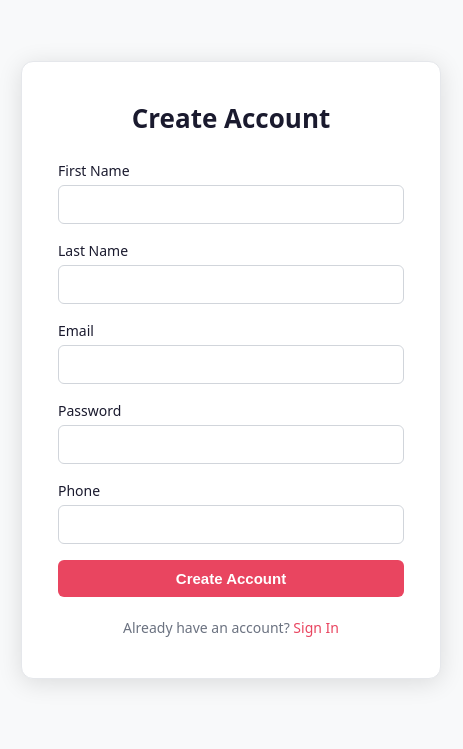
Test: RegisterPage › shows an error when first name is too short
Type "A" into the field labelled "First Name" at (231, 204), box [58,185,404,224]
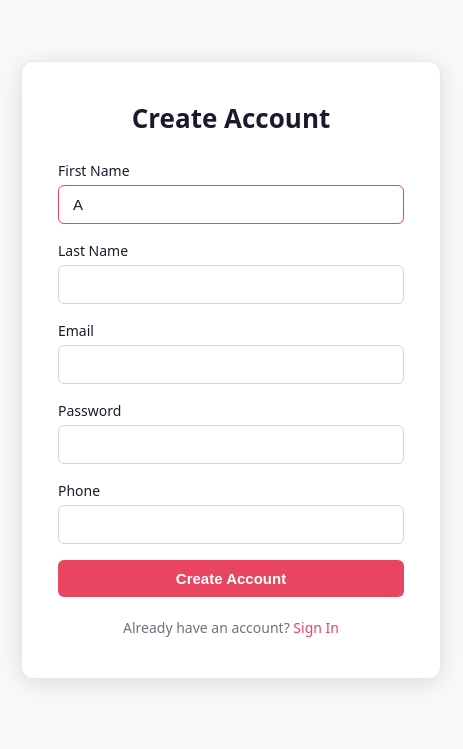
Submit the form "First Name Last Name Email Password Phone Create Account", box [58,160,404,597]
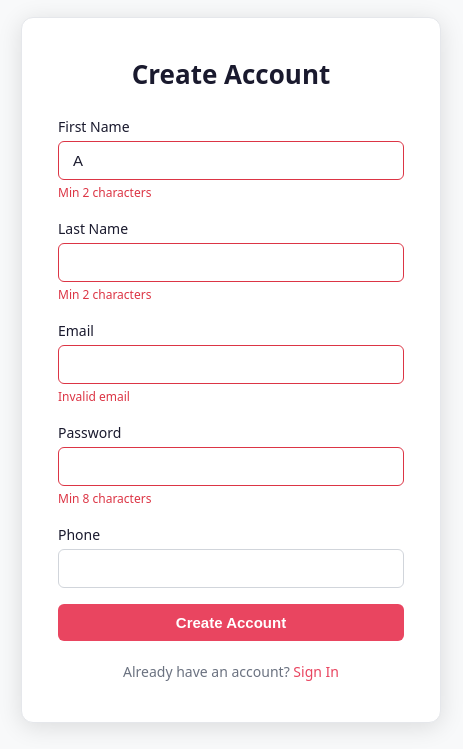
expect the text "Min 2 characters" below "First Name" is shown: met, box [58,184,151,201]
